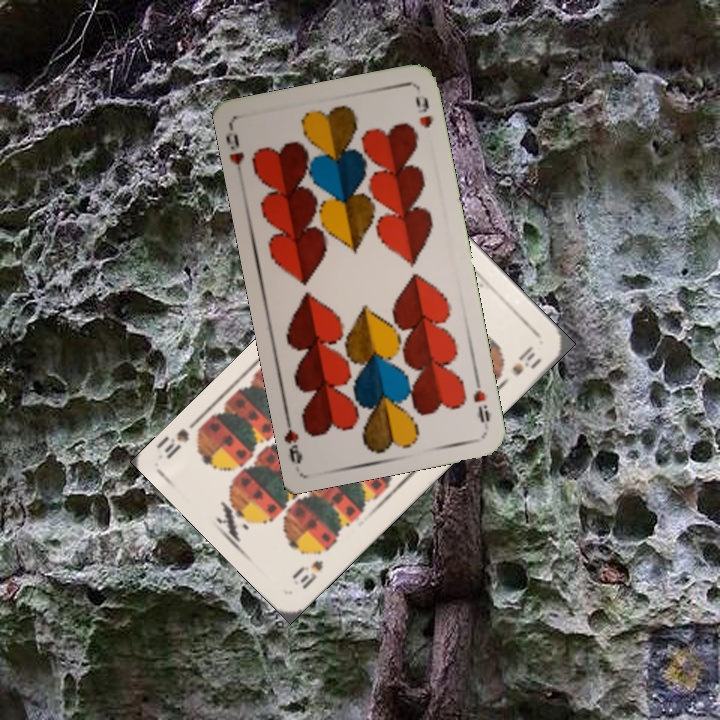H9: (469, 372, 493, 426), (223, 130, 247, 168)
S10: (289, 556, 326, 592)
